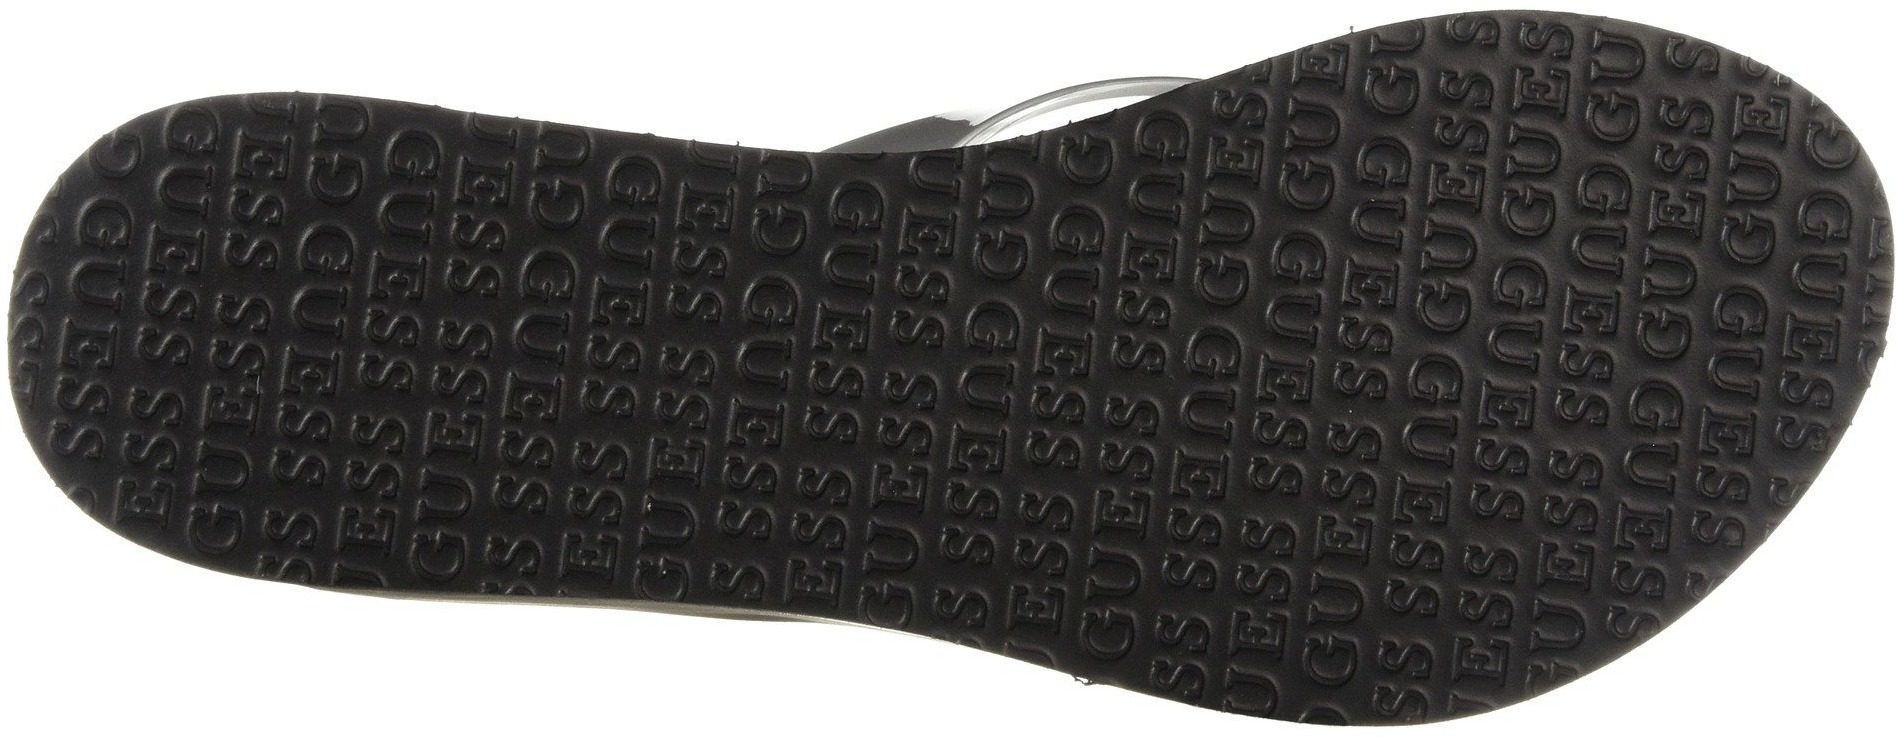exclude: (299, 583, 1153, 737)
text: (354, 163, 763, 563), (1499, 87, 1797, 396), (1011, 377, 1330, 655), (54, 192, 344, 477), (1349, 411, 1601, 665), (1258, 68, 1489, 328), (769, 165, 1002, 408), (1013, 136, 1250, 367), (772, 419, 999, 612), (1613, 400, 1766, 540)
